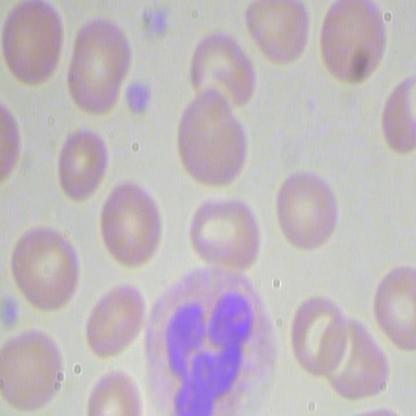Platelets: (121, 74, 159, 122), (134, 1, 168, 47), (0, 296, 18, 330)
RBC: (172, 88, 254, 191), (64, 14, 136, 118), (6, 216, 82, 314), (0, 318, 75, 415), (274, 160, 350, 250), (97, 180, 173, 270), (188, 183, 264, 273), (316, 1, 392, 90), (1, 1, 70, 94), (283, 288, 350, 378), (84, 280, 147, 366), (239, 1, 313, 68), (368, 259, 415, 351), (56, 124, 110, 200)
WBC: (142, 262, 289, 415)
